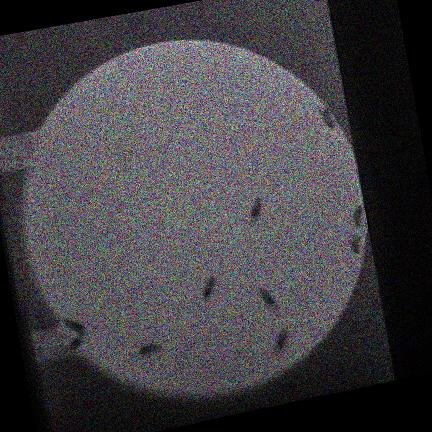fly: (274, 328, 289, 354), (318, 108, 336, 129), (261, 288, 278, 310), (64, 318, 86, 334), (250, 197, 262, 225), (203, 276, 216, 299), (354, 204, 366, 227), (139, 344, 161, 356), (351, 235, 362, 255), (69, 338, 83, 353)
